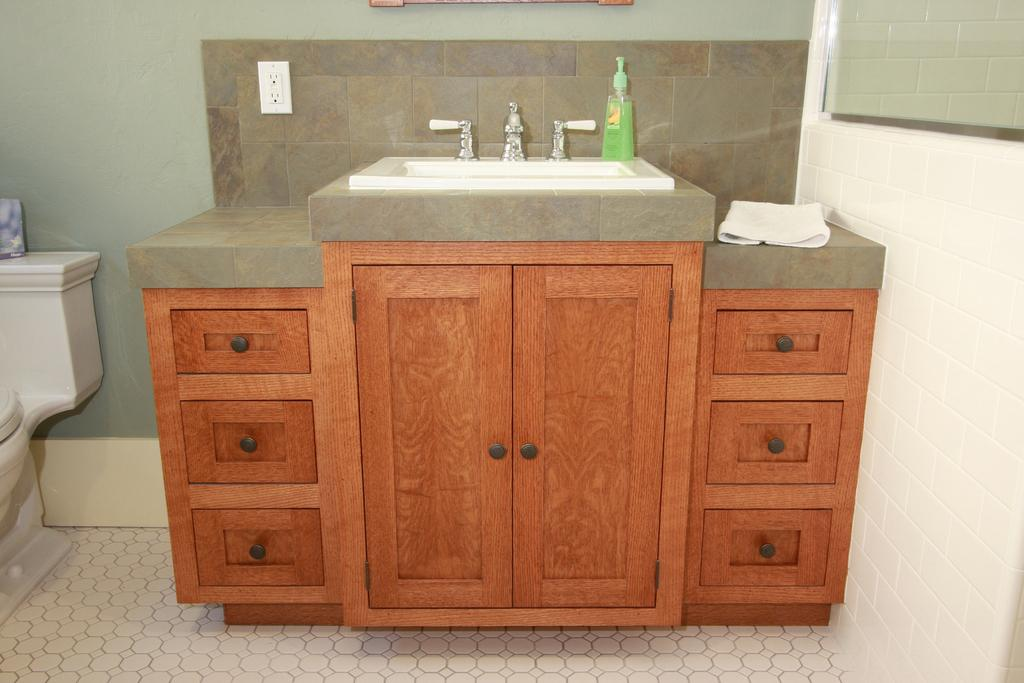cabinet_door: (358, 266, 510, 606), (512, 263, 662, 606), (183, 393, 316, 483), (174, 306, 318, 378), (706, 503, 830, 586), (193, 510, 323, 589), (711, 308, 857, 376), (716, 401, 835, 482)
handle: (520, 434, 542, 470), (766, 428, 788, 462), (772, 330, 798, 358), (228, 330, 254, 358), (756, 530, 778, 562), (486, 438, 508, 469), (250, 536, 268, 571), (238, 432, 262, 456)
